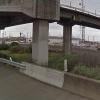Bridge: (19, 0, 98, 40)
